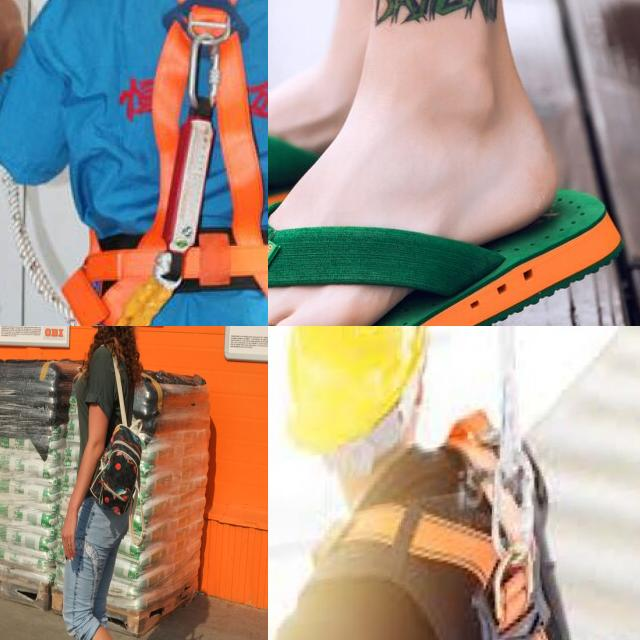Harness: (61, 0, 268, 326), (325, 406, 549, 640)
Sandals: (268, 98, 620, 326)
